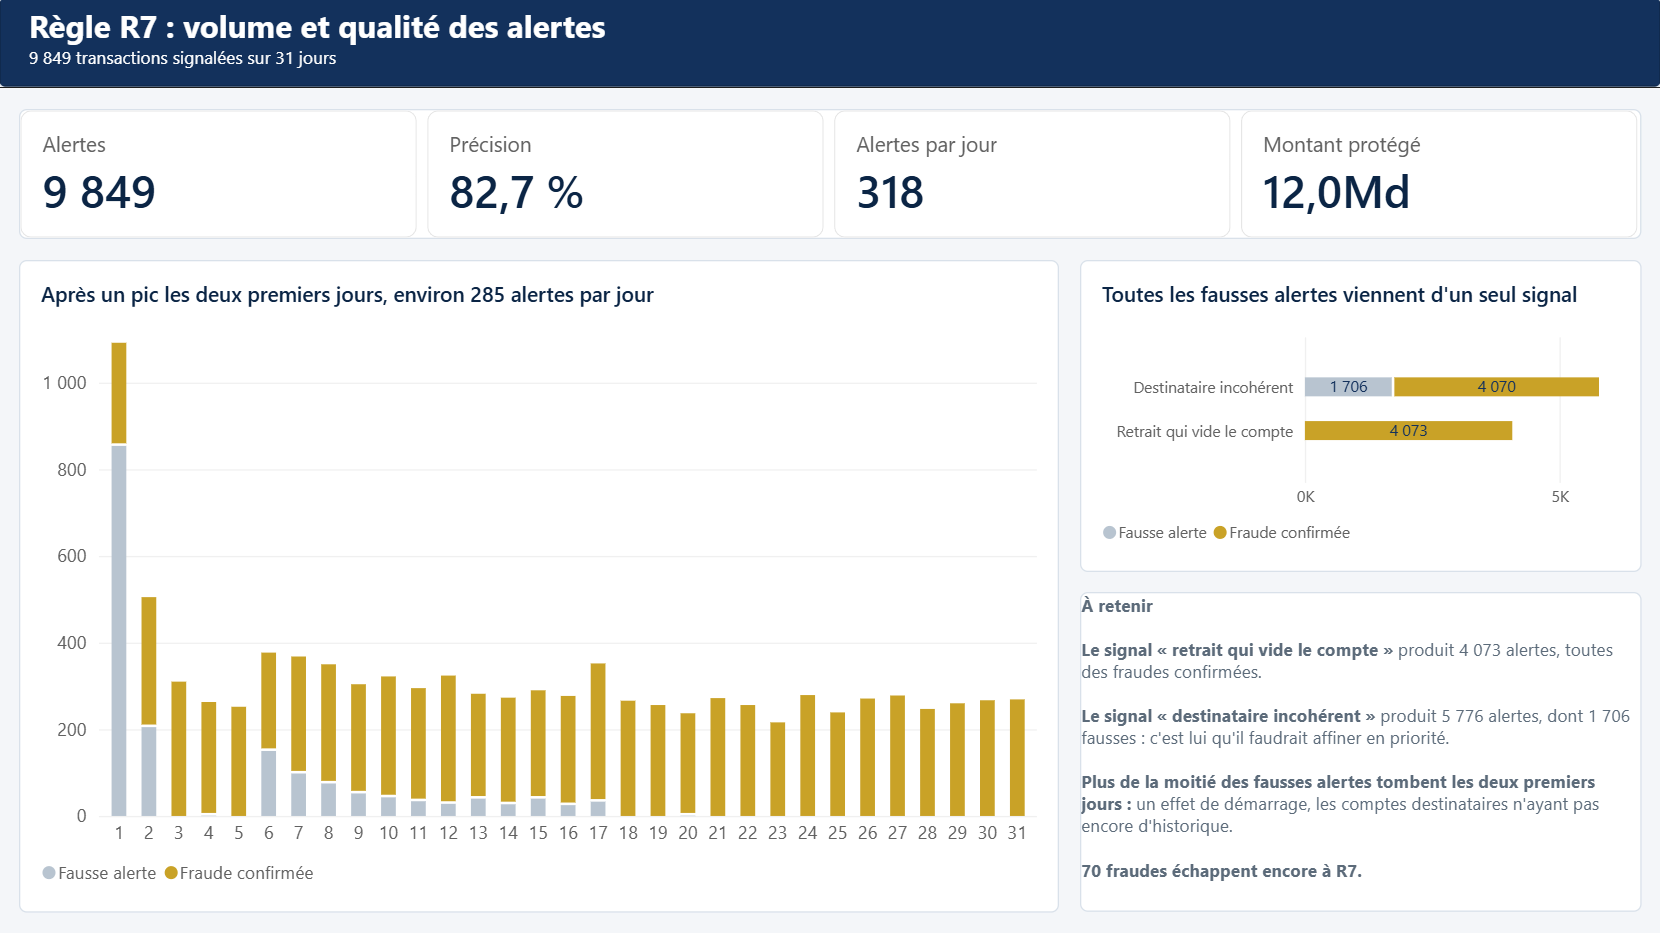

The page's visual inventory and layout, read from the dashboard file:
{"tool":"powerbi","page":{"name":"Détail des alertes R7","canvas":[1280,720],"ordinal":1},"visuals":[{"type":"shape","box":[0,0,1280,70],"z":0},{"type":"textbox","box":[24,5,900,60],"z":1},{"type":"cardVisual","fields":{"Data":["alertes_R7.Alertes","alertes_R7.Précision","alertes_R7.Alertes par jour","alertes_R7.Montant protégé"]},"box":[16,86,1248,100],"z":2},{"type":"columnChart","title":"Après un pic les deux premiers jours, environ 285 alertes par jour","fields":{"Category":["alertes_R7.jour"],"Series":["alertes_R7.statut"],"Y":["alertes_R7.Alertes"]},"box":[16,202,800,502],"z":3},{"type":"barChart","title":"Toutes les fausses alertes viennent d''un seul signal","fields":{"Category":["alertes_R7.signal"],"Series":["alertes_R7.statut"],"Y":["alertes_R7.Alertes"]},"box":[832,202,432,240],"z":4},{"type":"textbox","box":[832,458,432,246],"z":5}]}

Visuals, with their boxes in screenshot pixels (x1, y1, x2, y2), scaled from the page's 1280x720 canvas onto the 1660x933 screenshot:
shape: box(0, 0, 1659, 91)
textbox: box(31, 6, 1198, 84)
cardVisual - alertes_R7.Alertes x alertes_R7.Précision: box(21, 111, 1639, 241)
"Après un pic les deux premiers jours, environ 285 alertes par jour" columnChart: box(21, 262, 1058, 912)
"Toutes les fausses alertes viennent d''un seul signal" barChart: box(1079, 262, 1639, 573)
textbox: box(1079, 593, 1639, 912)
